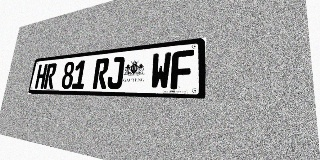1: (71, 60, 87, 89)
8: (60, 61, 76, 89)
F: (170, 49, 194, 89)
H: (34, 64, 48, 89)
J: (106, 56, 125, 89)
R: (92, 58, 110, 89), (43, 63, 57, 89)
W: (150, 52, 172, 89)
